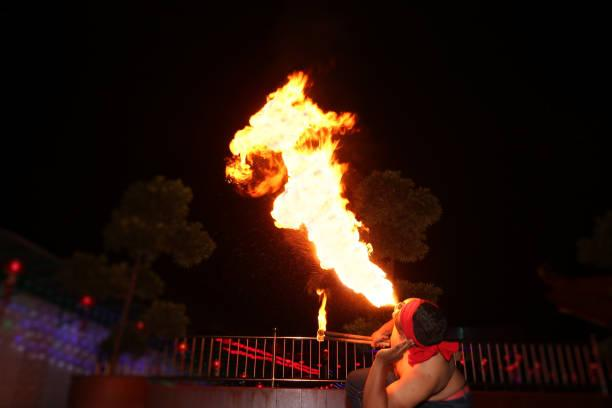Fire: (223, 47, 398, 306)
